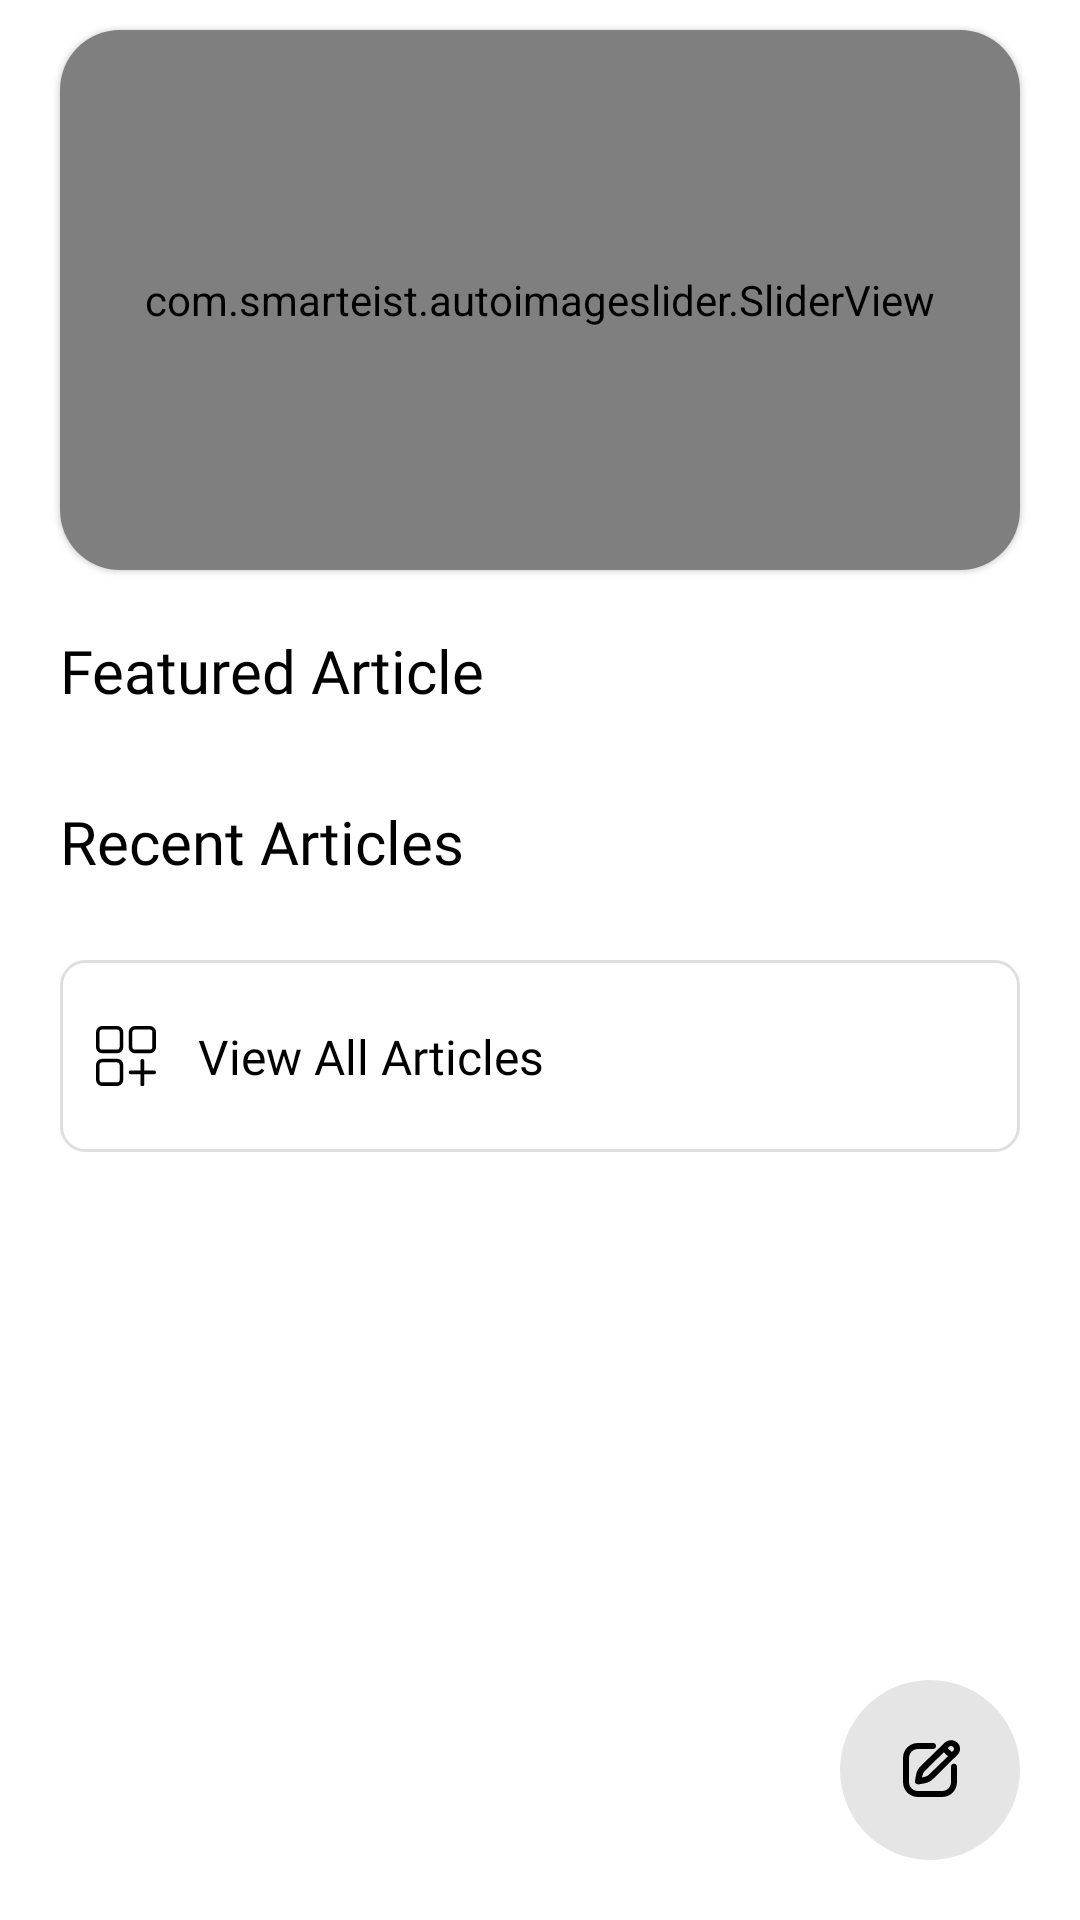

Named icons in this screenshot (1080w x 1920h) and their centers, [x,y]:
write: [931,1768]
